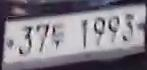1: (77, 17, 90, 51)
3: (17, 24, 34, 57), (122, 12, 136, 43)
7: (34, 22, 50, 53)
9: (90, 16, 107, 46), (107, 15, 121, 44)
두: (51, 24, 66, 49)
